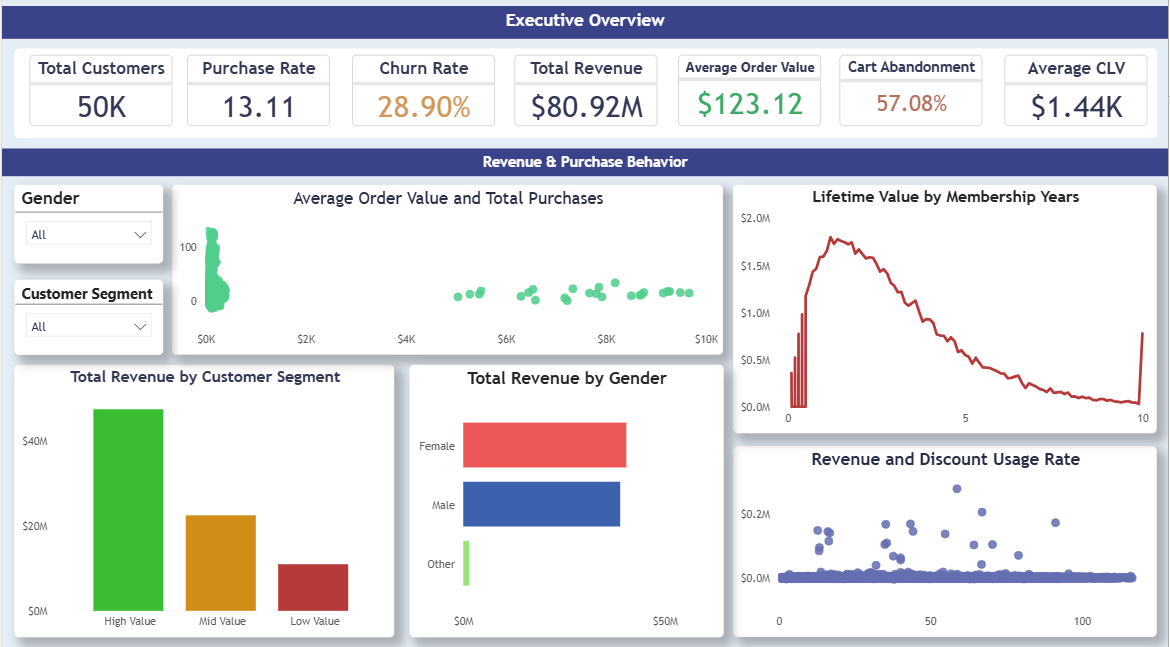

This screenshot's page, from the dashboard's own definition file:
{"tool":"powerbi","page":{"name":"Revenue & Purchase Behavior","canvas":[1280,720],"ordinal":1},"visuals":[{"type":"textbox","box":[0,11,1280.3,35.7],"z":0},{"type":"textbox","box":[0,167.4,1280.3,30.2],"z":1000},{"type":"textbox","box":[13.7,57.6,1254.2,98.8],"z":2000},{"type":"card","title":"Purchase Rate","fields":{"Values":["ecommerce_kpi_data.Purchase Rate %"]},"box":[203.1,64.5,156.4,78.2],"z":3000},{"type":"card","title":"Total Customers","fields":{"Values":["ecommerce_kpi_data.Total Customers"]},"box":[30.2,64.5,156.4,78.2],"z":4000},{"type":"card","title":"Churn Rate","fields":{"Values":["ecommerce_kpi_data.Churn Rate"]},"box":[384.2,64.5,156.4,78.2],"z":5000},{"type":"card","title":"Cart Abandonment","fields":{"Values":["ecommerce_kpi_data.Average Cart Abandonment Rate"]},"box":[919.4,64.5,156.4,78.2],"z":6000},{"type":"card","title":"Total Revenue","fields":{"Values":["Sum(ecommerce_kpi_data.Revenue)"]},"box":[562.6,64.5,156.4,78.2],"z":7000},{"type":"card","title":"Average Order Value","fields":{"Values":["Avg(ecommerce_kpi_data.Average_Order_Value)"]},"box":[742.4,64.5,156.4,78.2],"z":8000},{"type":"card","title":"Average CLV","fields":{"Values":["Avg(ecommerce_kpi_data.Lifetime_Value)"]},"box":[1100.5,64.5,156.4,78.2],"z":9000},{"type":"columnChart","title":"Total Revenue by Customer Segment","fields":{"Category":["ecommerce_kpi_data.customer_segment"],"Y":["ecommerce_kpi_data.Total Revenue"]},"box":[13.7,404.8,417.2,299.1],"z":10000},{"type":"scatterChart","title":"Average Order Value and Total Purchases","fields":{"Y":["ecommerce_kpi_data.Total_Purchases"],"X":["ecommerce_kpi_data.Average_Order_Value"]},"box":[186.6,207.2,605.1,186.6],"z":11000},{"type":"scatterChart","title":"Revenue and Discount Usage Rate","fields":{"X":["ecommerce_kpi_data.Discount_Usage_Rate"],"Y":["ecommerce_kpi_data.Revenue"]},"box":[802.7,494,465.2,209.9],"z":12000},{"type":"lineChart","title":"Lifetime Value by Membership Years","fields":{"Category":["ecommerce_kpi_data.Membership_Years"],"Y":["Sum(ecommerce_kpi_data.Lifetime_Value)"]},"box":[802.7,207.2,465.2,273.1],"z":13000},{"type":"slicer","title":"Gender","fields":{"Values":["ecommerce_kpi_data.Gender"]},"box":[13.7,207.2,163.3,86.4],"z":14000},{"type":"slicer","title":"Customer Segment","fields":{"Values":["ecommerce_kpi_data.customer_segment"]},"box":[13.7,311.5,163.3,82.3],"z":15000},{"type":"barChart","fields":{"Category":["ecommerce_kpi_data.Gender"],"Y":["ecommerce_kpi_data.Total Revenue"]},"box":[447.3,404.8,344.4,299.1],"z":16000}]}

Visuals, with their boxes in screenshot pixels (x1, y1, x2, y2), scaled from the page's 1280x720 canvas onto the 1170x647 screenshot:
textbox: 0, 10, 1169, 42
textbox: 0, 150, 1169, 178
textbox: 13, 52, 1159, 141
"Purchase Rate" card: 186, 58, 329, 128
"Total Customers" card: 28, 58, 171, 128
"Churn Rate" card: 351, 58, 494, 128
"Cart Abandonment" card: 840, 58, 983, 128
"Total Revenue" card: 514, 58, 657, 128
"Average Order Value" card: 679, 58, 822, 128
"Average CLV" card: 1006, 58, 1149, 128
"Total Revenue by Customer Segment" columnChart: 13, 364, 394, 633
"Average Order Value and Total Purchases" scatterChart: 171, 186, 724, 354
"Revenue and Discount Usage Rate" scatterChart: 734, 444, 1159, 633
"Lifetime Value by Membership Years" lineChart: 734, 186, 1159, 432
"Gender" slicer: 13, 186, 162, 264
"Customer Segment" slicer: 13, 280, 162, 354
barChart - ecommerce_kpi_data.Gender x ecommerce_kpi_data.Total Revenue: 409, 364, 724, 633
